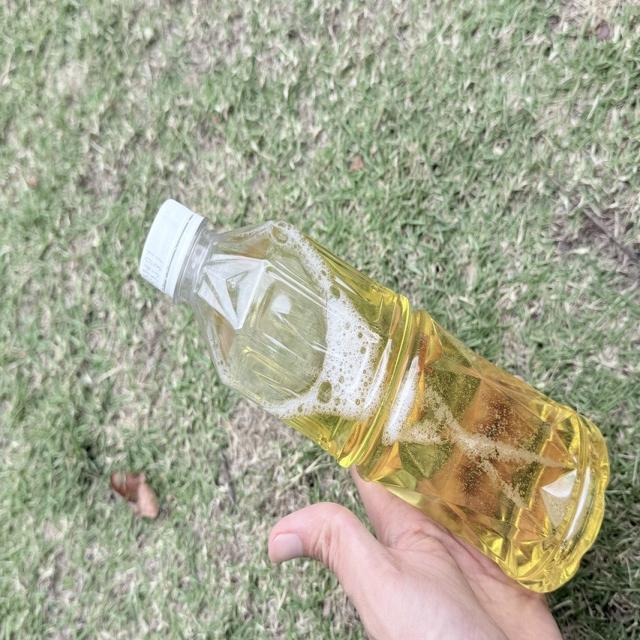high: (140, 200, 608, 591)
